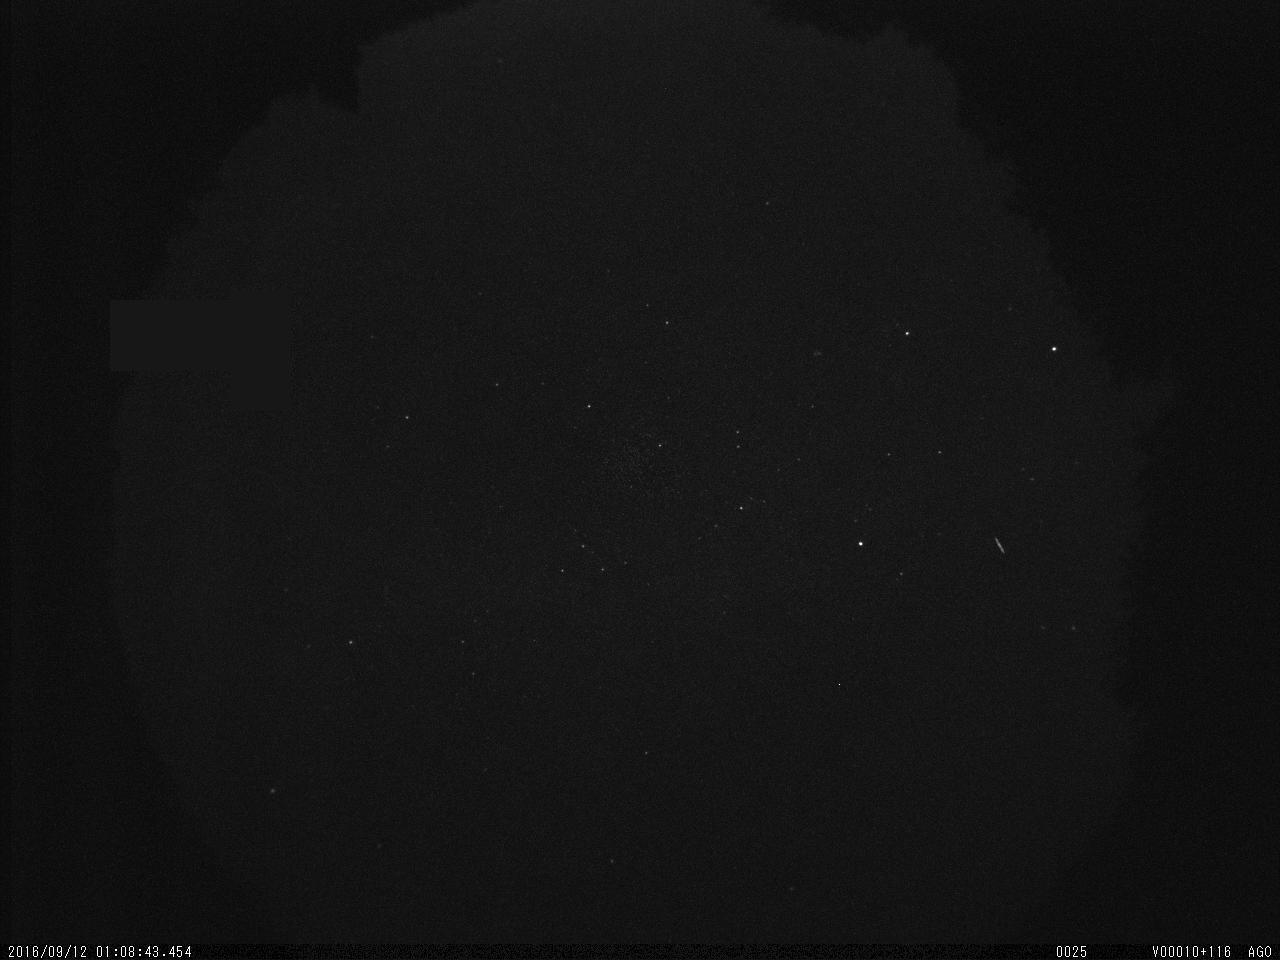meteor: (987, 532, 1010, 559)
